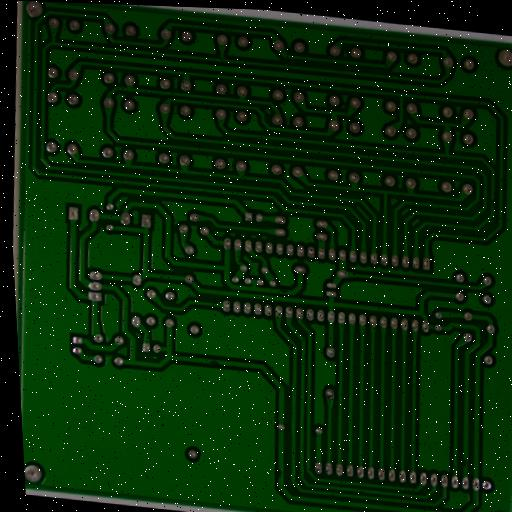mouse_bite: (487, 195, 500, 213), (460, 455, 472, 472), (274, 465, 285, 482), (206, 357, 223, 368), (276, 286, 292, 297)
